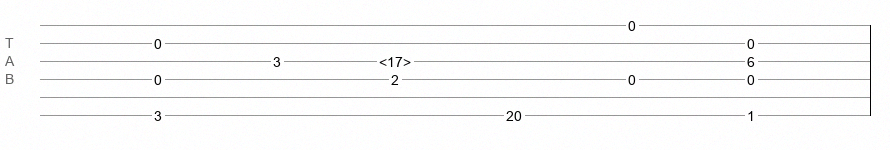0: (154, 72, 162, 82), (154, 36, 162, 46), (628, 72, 636, 82), (628, 18, 636, 28), (747, 36, 755, 46), (747, 72, 755, 82)
1: (747, 108, 755, 118)
2: (391, 72, 399, 82)
20: (506, 108, 522, 118)
3: (154, 108, 162, 118), (273, 54, 281, 64)
6: (747, 54, 755, 64)
harmonic: (379, 54, 411, 64)
